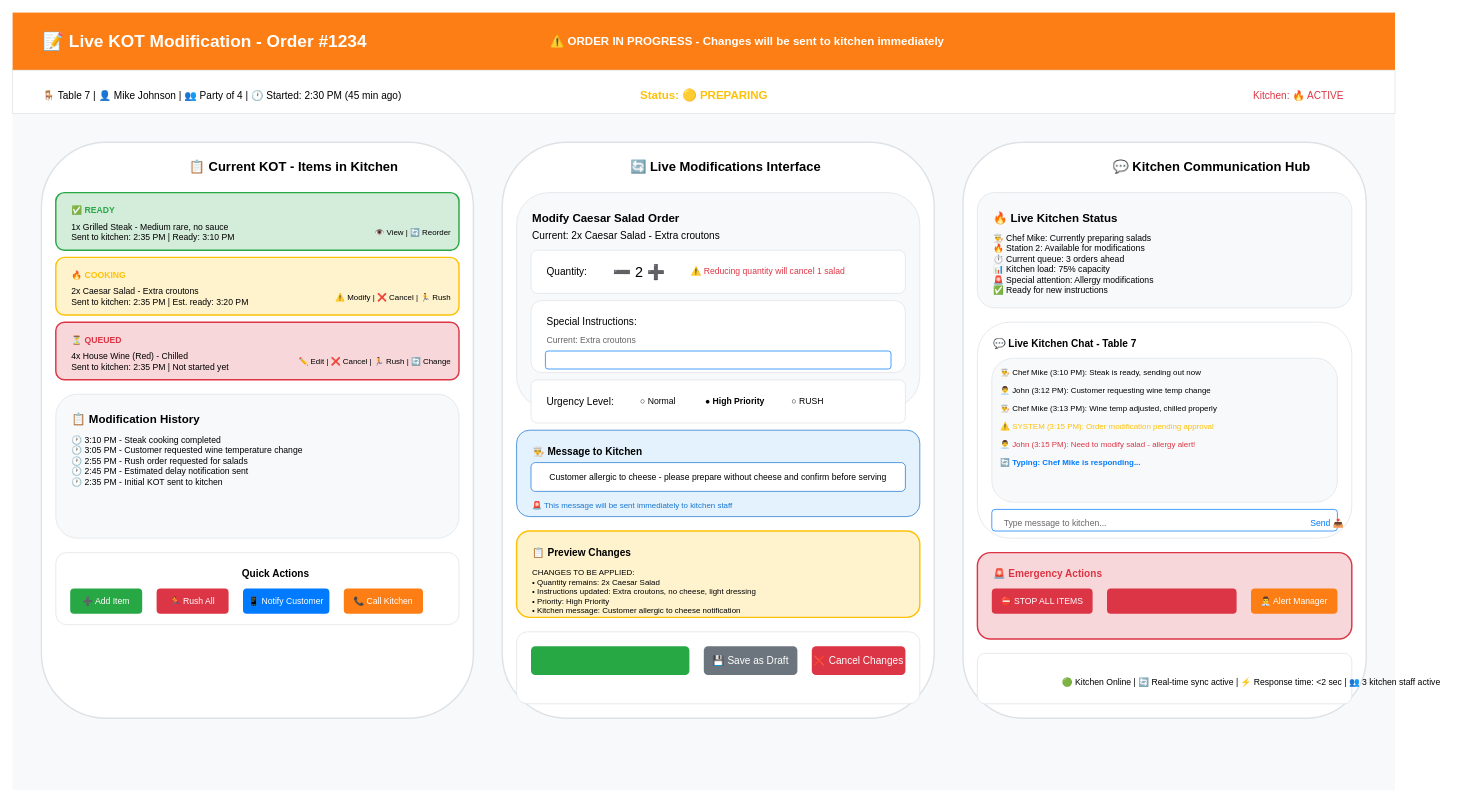
The diagram is 1472 pixels wide and 802 high, and some of its shapes have lost their labels. Here are the shapes that lost their labels. From the top down, the centre of each, then its label:
At [718,359]: "Extra croutons, no cheese, light dressing".
At [1171,600]: "📞 EMERGENCY CHEF CALL".
At [610,660]: "🚀 Send Modification to Kitchen".
